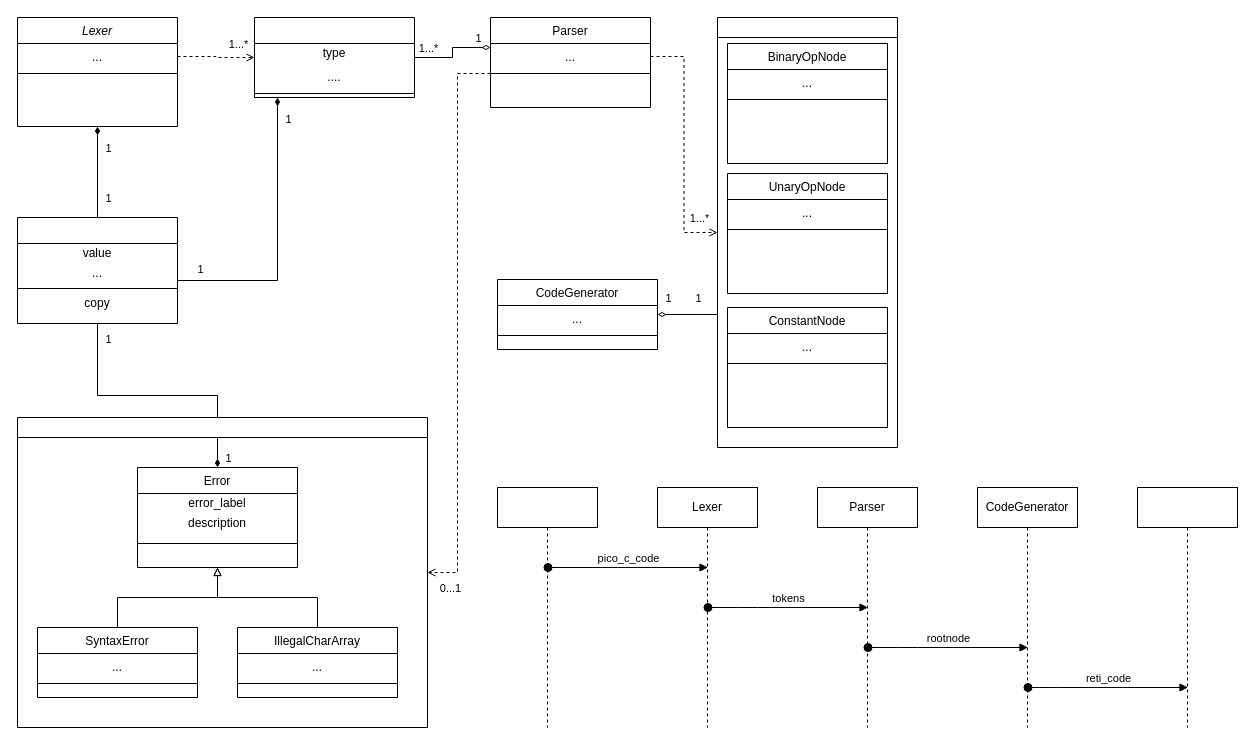
Some shapes in this 1255 by 745 pixel diagram are drawn without their labels. The shapes that lost their labels are listed below. From the top down, each one's box as (x1, y1, x2, y2) in pixels, then its label:
(254, 16, 414, 98): Token
(716, 16, 898, 448): Nodes
(16, 216, 178, 324): Medadata
(16, 416, 428, 728): Errors
(496, 486, 598, 728): Shell Input / Pico-C File
(1136, 486, 1238, 728): Shell Output / RETI File
